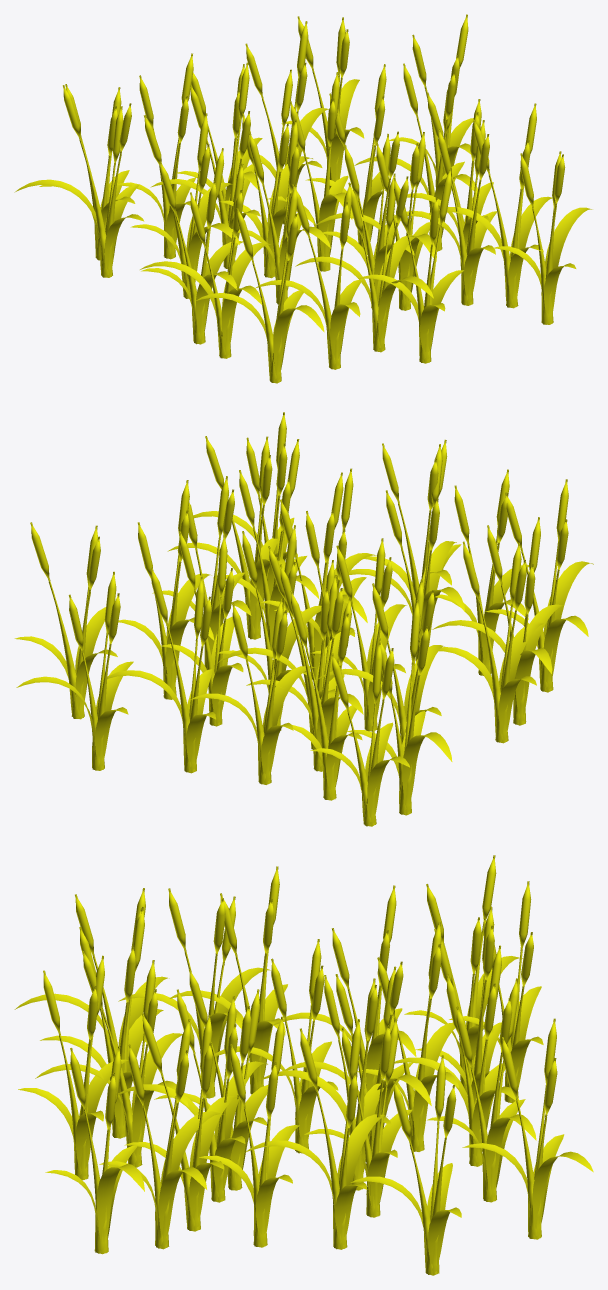
Rendered from rice.fbx.
3 views of the same model, one above another, from view 1: azimuth 30°, elevation 25°; view 2: azimuth 150°, elevation 25°; view 3: azimuth 270°, elevation 25° (orthographic). The views are drawn at different scales.
Parts seen in each view (by area): view 1: SEGrass2BS3; view 2: SEGrass2BS3; view 3: SEGrass2BS3.
Part boxes in pixels (x1,y1,x2,y2): SEGrass2BS3: (14, 14, 592, 383); SEGrass2BS3: (14, 412, 593, 826); SEGrass2BS3: (14, 855, 593, 1275).
Bounding box in the file's own units: 287 × 121 × 287.
